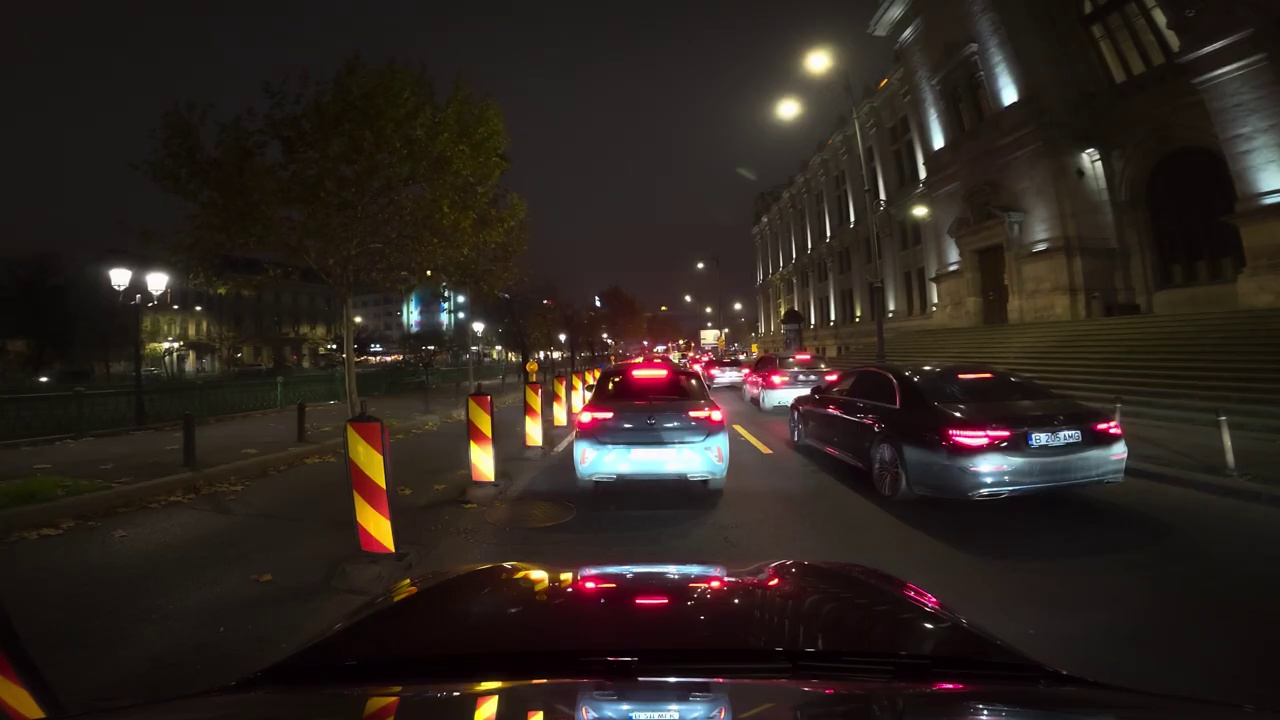acesa: (802, 47, 835, 77), (772, 96, 803, 124), (909, 202, 932, 223), (735, 163, 756, 183)
